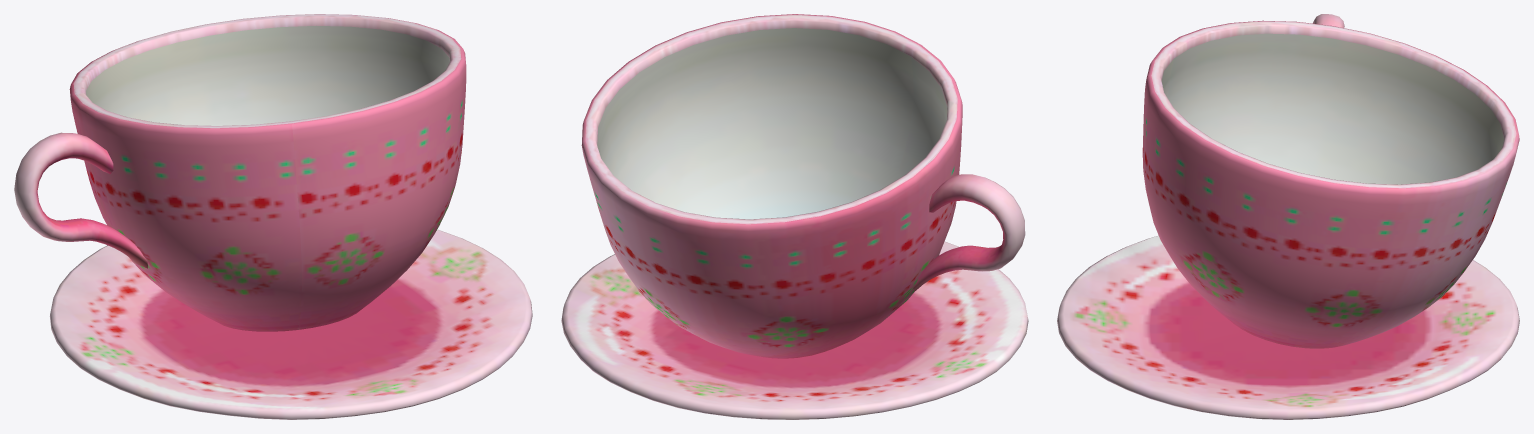
3 renders of one model, left to right at view 1: azimuth 30°, elevation 25°; view 2: azimuth 150°, elevation 25°; view 3: azimuth 270°, elevation 25°, orthographic. The views are drawn at different scales.
Visible parts, largest first — view 1: polySurface12, cup2_pCylinder1; view 2: polySurface12, cup2_pCylinder1; view 3: polySurface12, cup2_pCylinder1.
Boxes of the visible parts, bbox=[...] form: polySurface12: bbox=[14, 14, 466, 331]; cup2_pCylinder1: bbox=[49, 229, 532, 419]; polySurface12: bbox=[581, 14, 1025, 358]; cup2_pCylinder1: bbox=[561, 241, 1028, 419]; polySurface12: bbox=[1142, 14, 1519, 348]; cup2_pCylinder1: bbox=[1057, 235, 1519, 419].
Bounding box in the file's own units: 9.99 × 5.84 × 9.04.
